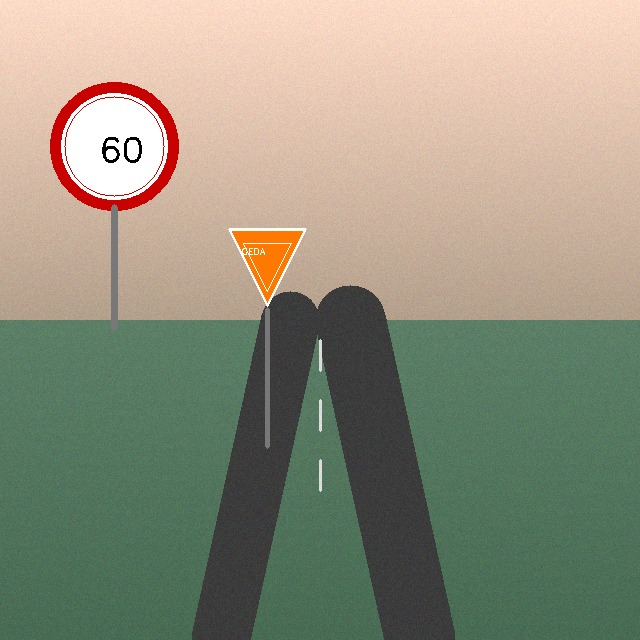ceda_el_paso: (225, 225, 309, 309)
velocidad: (53, 85, 175, 207)
